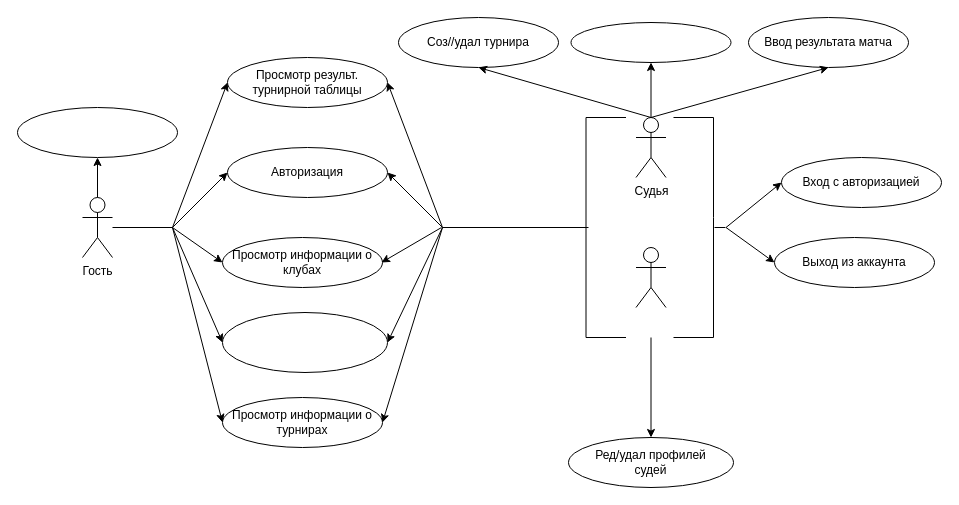
The diagram is 959 pixels wide and 505 high, and some of its shapes have lost their labels. The shapes that lost their labels are listed below. From the top down, each one's centre as x and y in pixels, then its label:
At (x=650, y=42): "Создание матчей".
At (x=97, y=132): "Вход без авторизации".
At (x=650, y=277): "Администратор".
At (x=305, y=342): "Просмотр результ. матчей".
